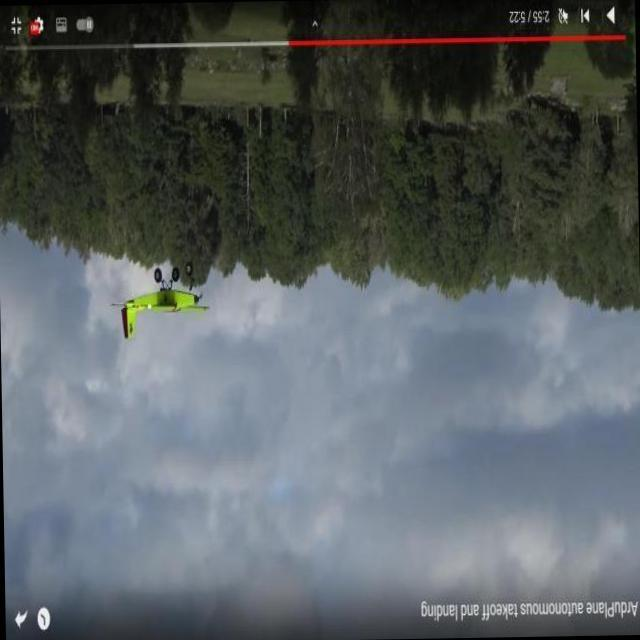iha: (140, 272, 180, 328)
